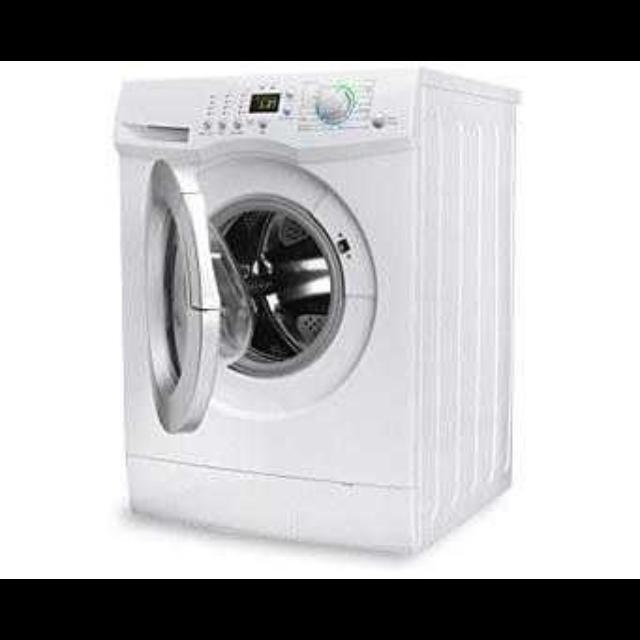Washing-Machine: (119, 71, 513, 558)
